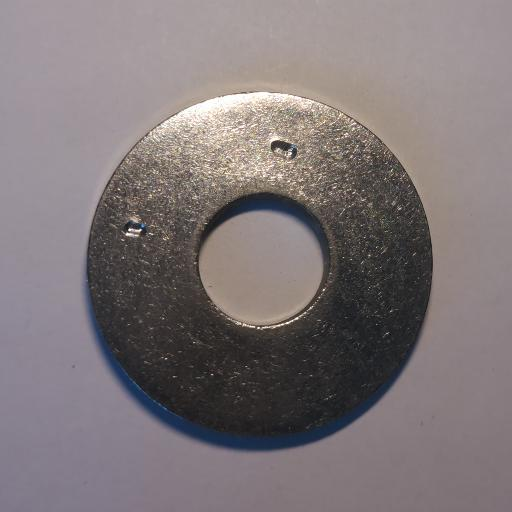circular_cavity: (271, 137, 299, 160), (123, 220, 144, 237)
